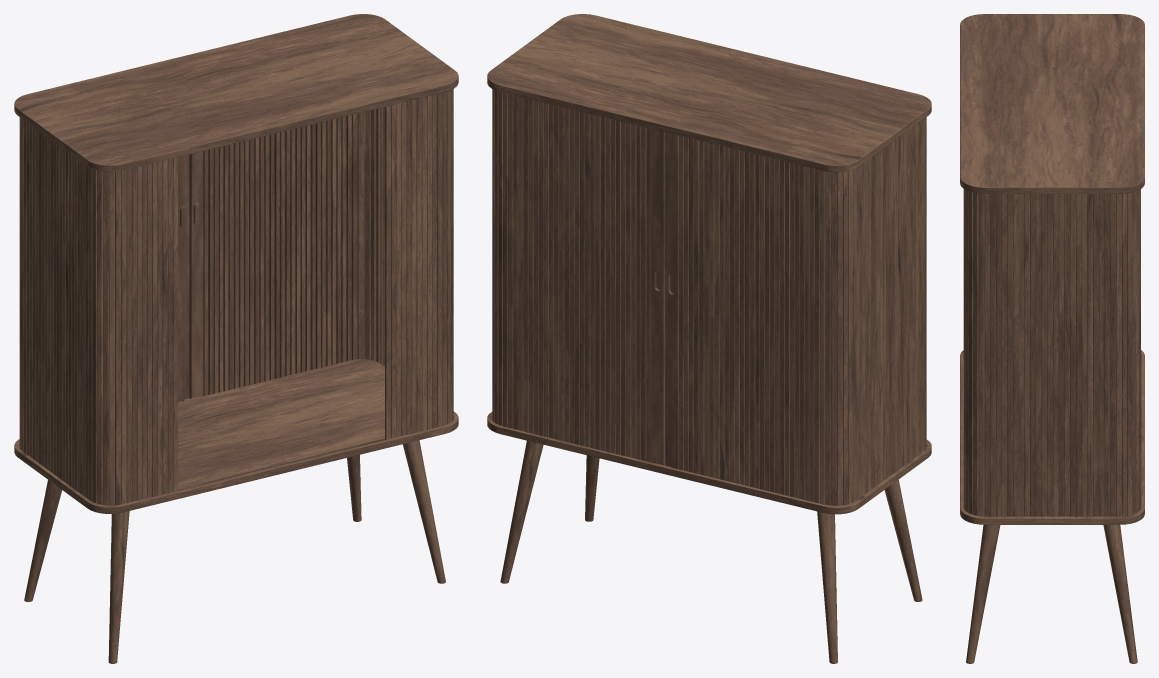
The model's file is cupboard.glb.
3 renders of one model, left to right at view 1: azimuth 30°, elevation 25°; view 2: azimuth 150°, elevation 25°; view 3: azimuth 270°, elevation 25°, orthographic. The views are drawn at different scales.
Visible parts, largest first — view 1: Cabinet; view 2: Cabinet; view 3: Cabinet.
Part boxes in pixels (bbox=[...]): Cabinet: bbox=[14, 14, 458, 663]; Cabinet: bbox=[487, 14, 931, 663]; Cabinet: bbox=[960, 14, 1144, 663].
Size of the model in its own units: 1 by 1.31 by 0.4507.
1 material, 1 textured.
